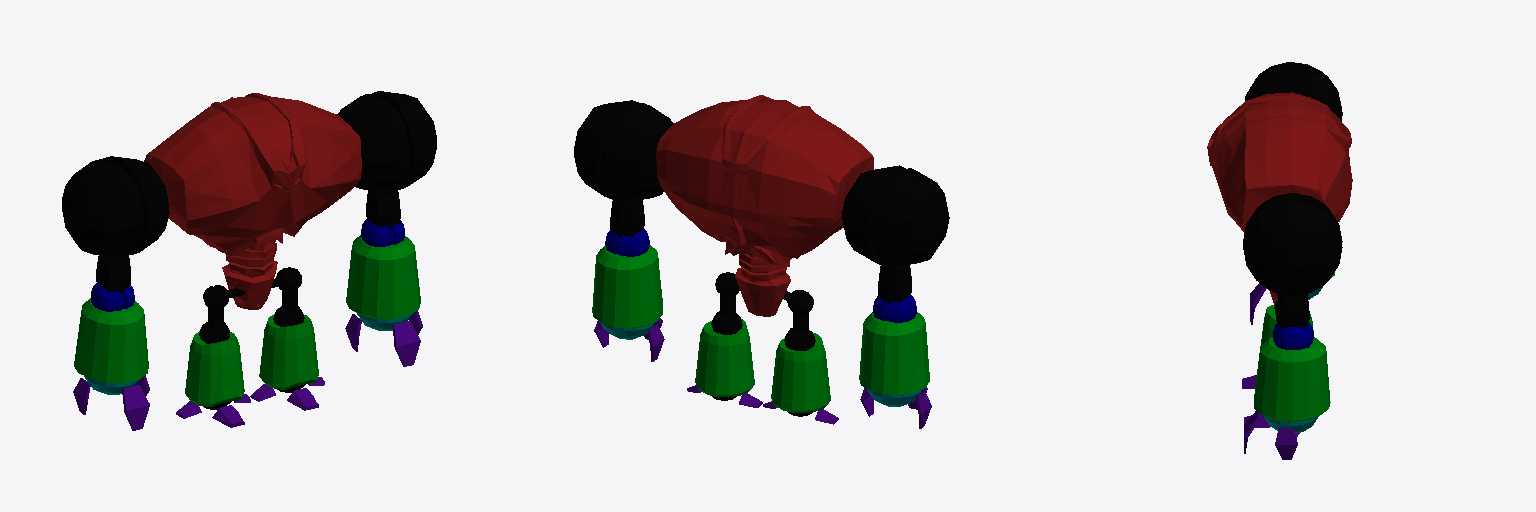
Rendered from RobotUV.obj.
3 views of the same model, side by side, from view 1: azimuth 30°, elevation 25°; view 2: azimuth 150°, elevation 25°; view 3: azimuth 270°, elevation 25° (orthographic).
Visible parts, largest first — view 1: polySurface7 pCube28, pCube28 polySurface8, pCube28 polySurface19, pCube28 polySurface17, pCube28 polySurface25, pCube28 polySurface26, pCube28 polySurface29, pCube28 polySurface3, pCube28 polySurface24, pCube28 polySurface9, pCube28 polySurface18, pCube28 polySurface20 (+1 smaller); view 2: polySurface7 pCube28, pCube28 polySurface8, pCube28 polySurface19, pCube28 polySurface25, pCube28 polySurface17, pCube28 polySurface26, pCube28 polySurface29, pCube28 polySurface18, pCube28 polySurface9, pCube28 polySurface20, pCube28 polySurface12, pCube28 polySurface27; view 3: polySurface7 pCube28, pCube28 polySurface19, pCube28 polySurface17, pCube28 polySurface8, pCube28 polySurface18, pCube28 polySurface2.
Boxes of the visible parts, box(x1,y1,x2,y2) form: polySurface7 pCube28: box(144, 93, 361, 309); pCube28 polySurface8: box(62, 156, 169, 293); pCube28 polySurface19: box(337, 91, 436, 228); pCube28 polySurface17: box(346, 235, 420, 319); pCube28 polySurface25: box(74, 298, 148, 383); pCube28 polySurface26: box(185, 331, 244, 406); pCube28 polySurface29: box(259, 315, 318, 389); pCube28 polySurface3: box(393, 321, 420, 366); pCube28 polySurface24: box(122, 385, 149, 430); pCube28 polySurface9: box(91, 283, 134, 311); pCube28 polySurface18: box(361, 219, 404, 246); pCube28 polySurface20: box(203, 285, 244, 308); polySurface7 pCube28: box(656, 95, 873, 316); pCube28 polySurface8: box(842, 165, 949, 303); pCube28 polySurface19: box(574, 100, 673, 237); pCube28 polySurface25: box(859, 312, 929, 394); pCube28 polySurface17: box(592, 245, 662, 328); pCube28 polySurface26: box(771, 333, 830, 412); pCube28 polySurface29: box(695, 319, 754, 397); pCube28 polySurface18: box(605, 229, 649, 256); pCube28 polySurface9: box(873, 295, 916, 322); pCube28 polySurface20: box(783, 290, 813, 314); pCube28 polySurface12: box(711, 311, 742, 334); pCube28 polySurface27: box(784, 328, 815, 350); polySurface7 pCube28: box(1207, 92, 1352, 305); pCube28 polySurface19: box(1243, 193, 1342, 328); pCube28 polySurface17: box(1254, 337, 1330, 421); pCube28 polySurface8: box(1245, 62, 1342, 121); pCube28 polySurface18: box(1273, 323, 1313, 349); pCube28 polySurface2: box(1275, 428, 1297, 459).
Size of the model in its own units: 9.63 by 7.62 by 3.37.